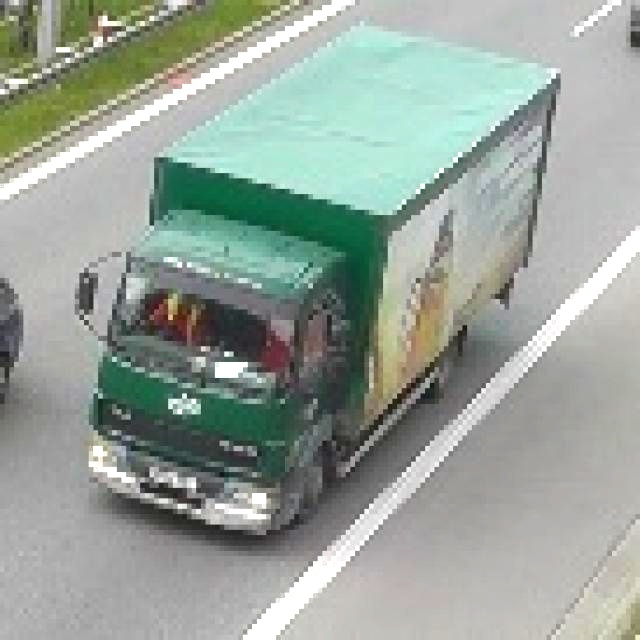truck: (27, 6, 556, 575)
